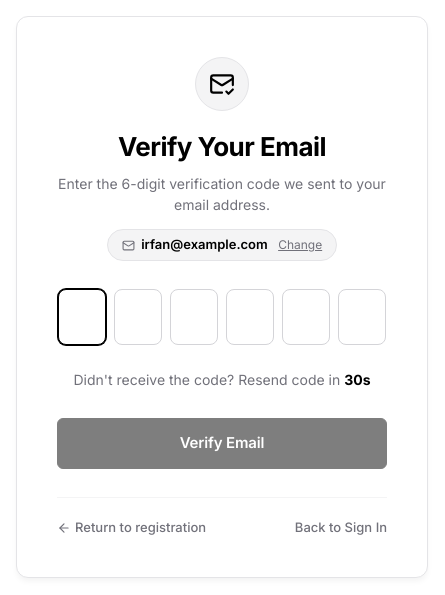
it: VerifyEmailPage Component › enables the Verify button only when all 6 digits are filled
The width and height of the screenshot is (445, 595).
Expected: the button "Verify Email" is disabled, x1=57 y1=418 x2=387 y2=469
Type "1" into the field named "Digit 1" at (82, 318), box x1=58 y1=290 x2=106 y2=346
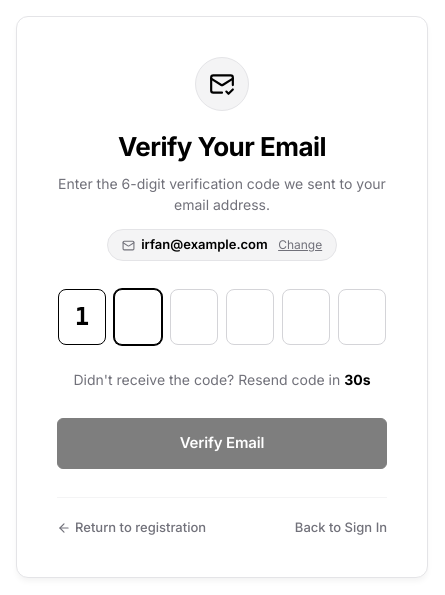
Expected: the button "Verify Email" is disabled, x1=57 y1=418 x2=387 y2=469
Type "2" into the field named "Digit 2" at (138, 318), box x1=114 y1=290 x2=162 y2=346
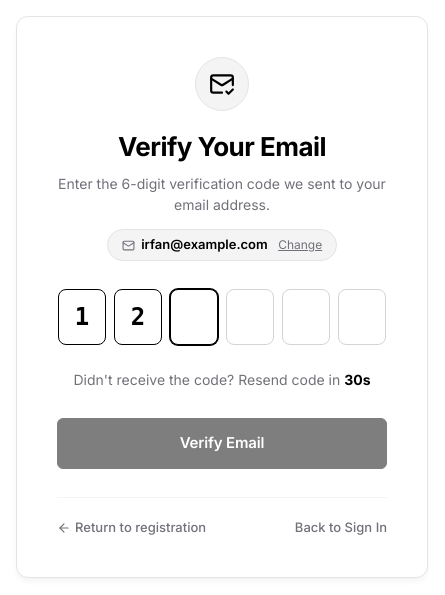
Expected: the button "Verify Email" is disabled, x1=57 y1=418 x2=387 y2=469
Type "3" into the field named "Digit 3" at (194, 318), box x1=170 y1=290 x2=218 y2=346
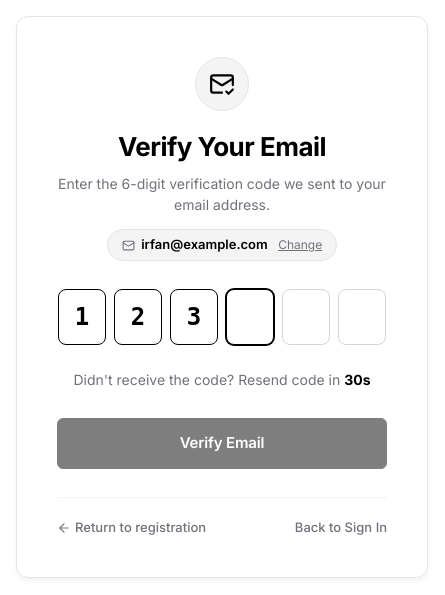
Expected: the button "Verify Email" is disabled, x1=57 y1=418 x2=387 y2=469
Type "4" into the field named "Digit 4" at (250, 318), box x1=226 y1=290 x2=274 y2=346
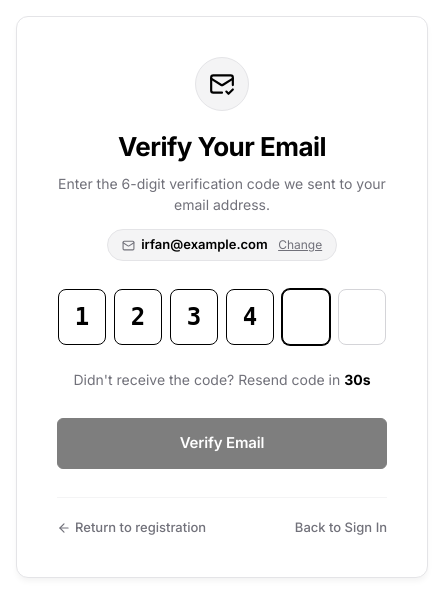
Expected: the button "Verify Email" is disabled, x1=57 y1=418 x2=387 y2=469
Type "5" into the field named "Digit 5" at (306, 318), box x1=282 y1=290 x2=330 y2=346
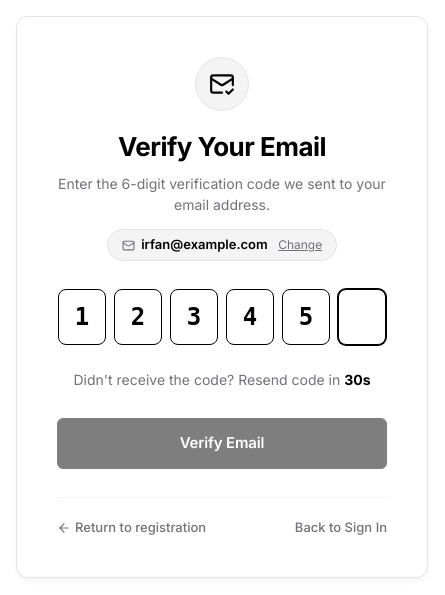
Expected: the button "Verify Email" is disabled, x1=57 y1=418 x2=387 y2=469
Type "6" into the field named "Digit 6" at (362, 318), box x1=338 y1=290 x2=386 y2=346
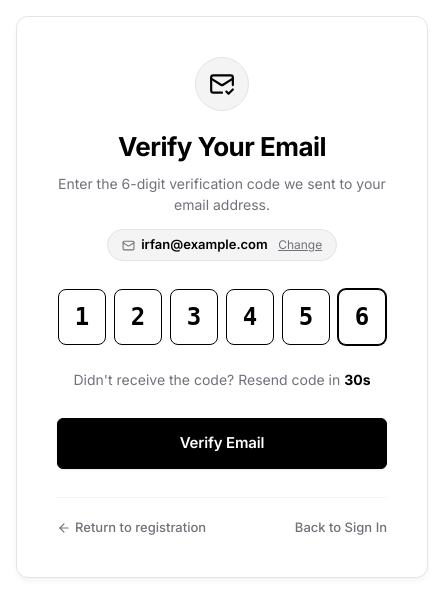
Expected: the button "Verify Email" is enabled, x1=57 y1=418 x2=387 y2=469
